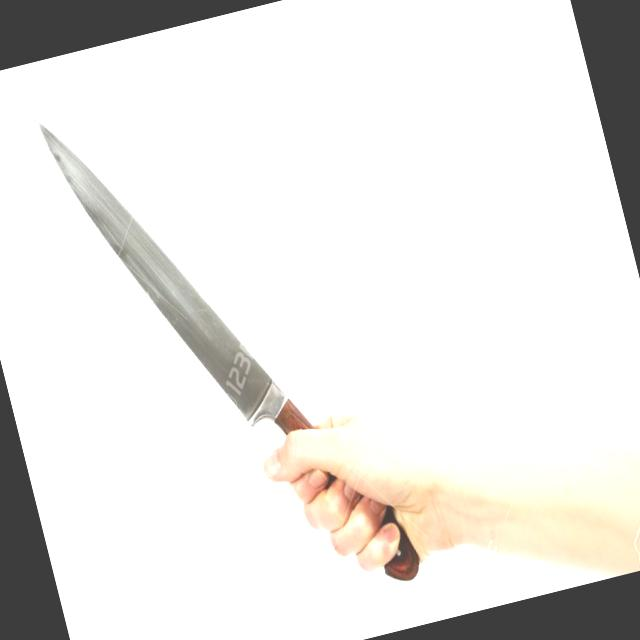knife: (21, 45, 394, 608)
